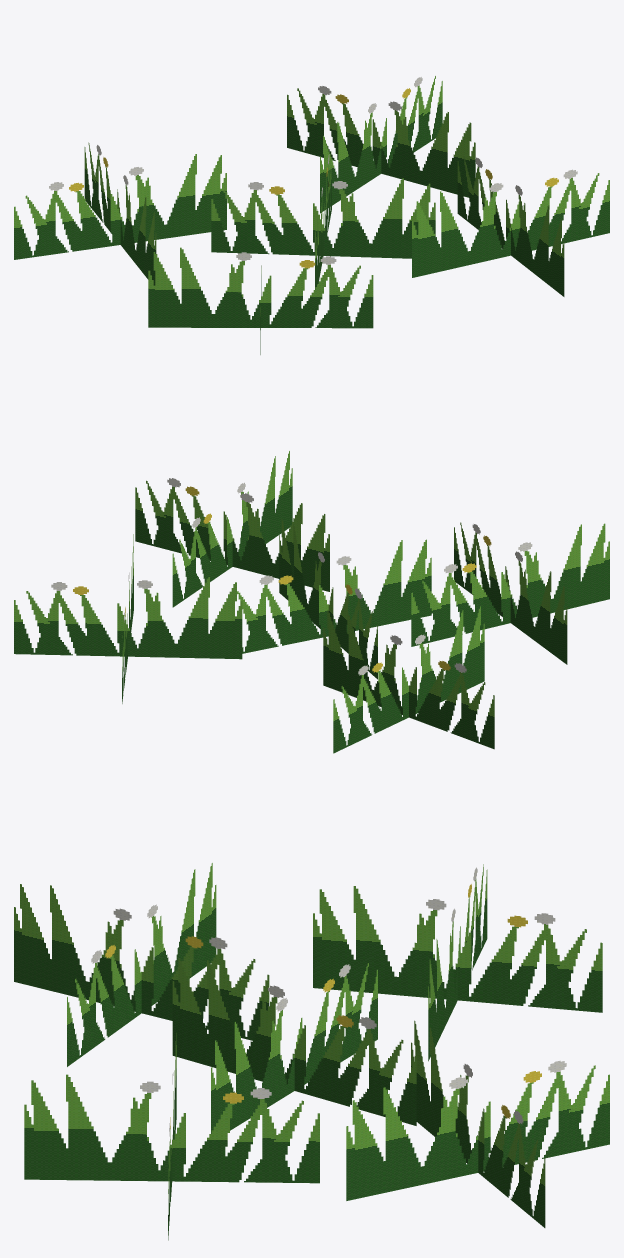
The model's file is grama_baixa_tapete.glb.
The picture shows the model from 3 angles, top to bottom: view 1: azimuth 30°, elevation 25°; view 2: azimuth 150°, elevation 25°; view 3: azimuth 270°, elevation 25°; orthographic projection. The views are drawn at different scales.
Visible parts, largest first — view 1: grama_baixa_tapete; view 2: grama_baixa_tapete; view 3: grama_baixa_tapete.
Part boxes in pixels (x1,y1,x2,y2): grama_baixa_tapete: (14, 76, 609, 354); grama_baixa_tapete: (14, 451, 609, 753); grama_baixa_tapete: (14, 863, 609, 1240).
Bounding box in the file's own units: 1.41 × 0.34 × 1.17.
1 material, 1 textured.
